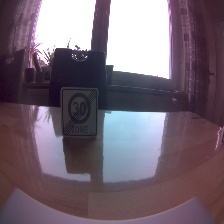dreisiger_zone_ende: (59, 86, 98, 138)
